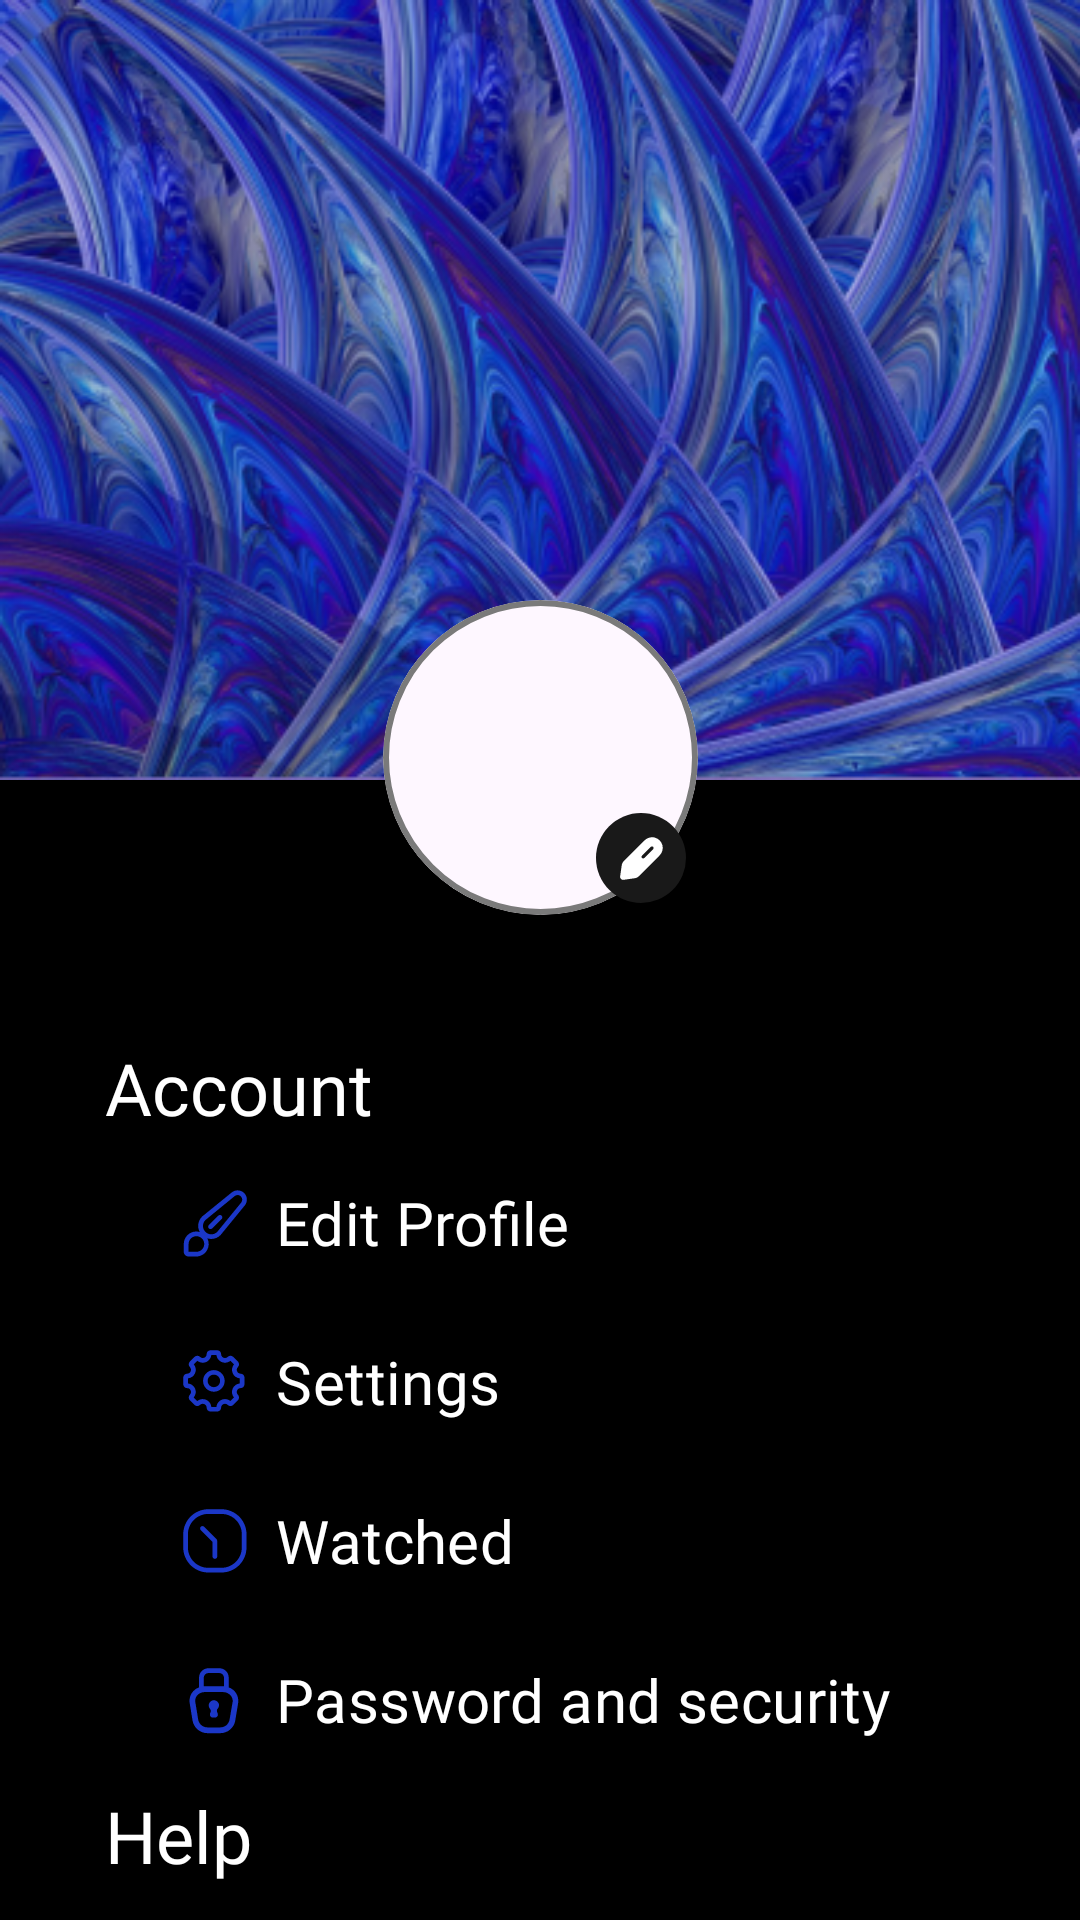

Where to tap for icons on this 1080*1920 app screen, as point (x, y):
pen: point (641, 858)
